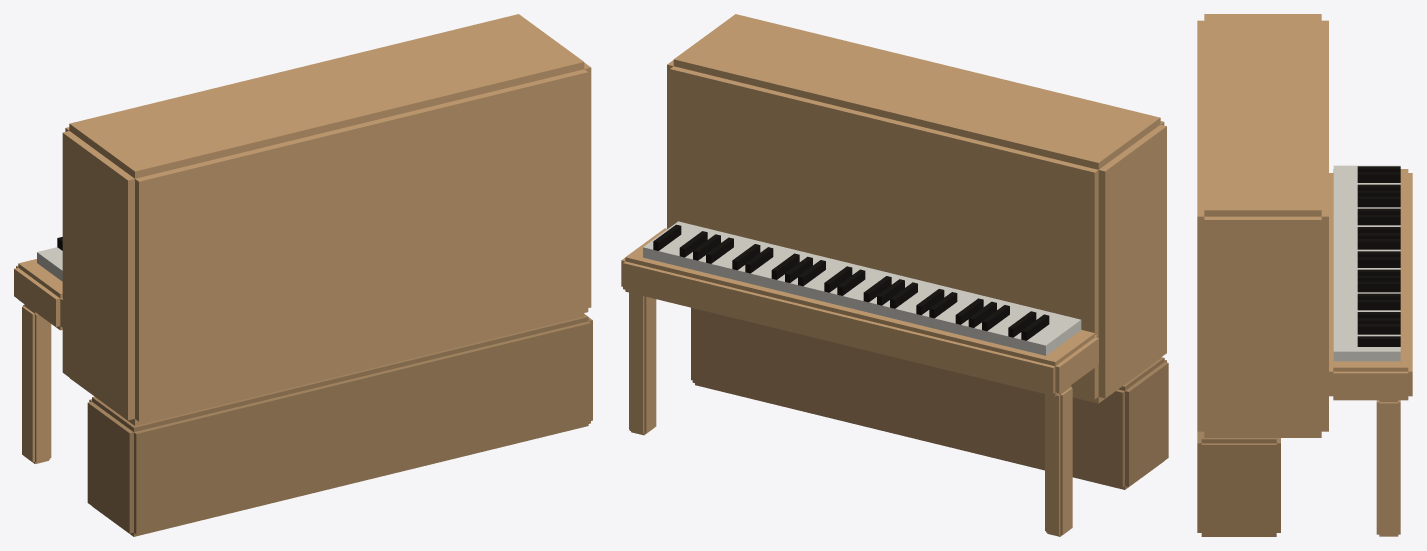
The model's file is palm_piano_v0.glb.
3 renders of one model, left to right at view 1: azimuth 30°, elevation 25°; view 2: azimuth 150°, elevation 25°; view 3: azimuth 270°, elevation 25°, orthographic. The views are drawn at different scales.
Visible parts, largest first — view 1: palm_piano_v0; view 2: palm_piano_v0; view 3: palm_piano_v0.
Part boxes in pixels (x1,y1,x2,y2): palm_piano_v0: (14,14,592,536); palm_piano_v0: (621,14,1168,536); palm_piano_v0: (1197,14,1412,536).
Bounding box in the file's own units: 2 × 1.5 × 0.9.
